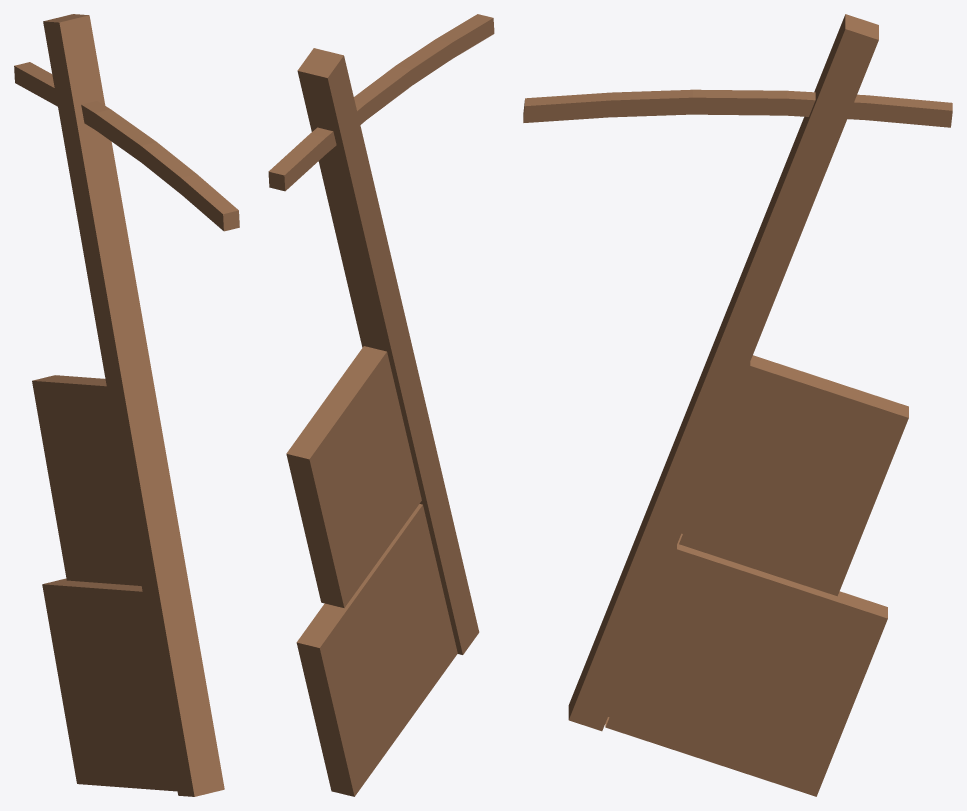
The model's file is rudder.glb.
The picture shows the model from 3 angles, left to right: view 1: azimuth 30°, elevation 25°; view 2: azimuth 150°, elevation 25°; view 3: azimuth 270°, elevation 25°; orthographic projection. The views are drawn at different scales.
Parts seen in each view (by area): view 1: Rudder; view 2: Rudder; view 3: Rudder.
Part boxes in pixels (x1,y1,x2,y2): Rudder: [14, 14, 239, 796]; Rudder: [268, 14, 494, 796]; Rudder: [523, 14, 952, 796].
Bounding box in the file's own units: 0.1673 × 3.99 × 2.02.
